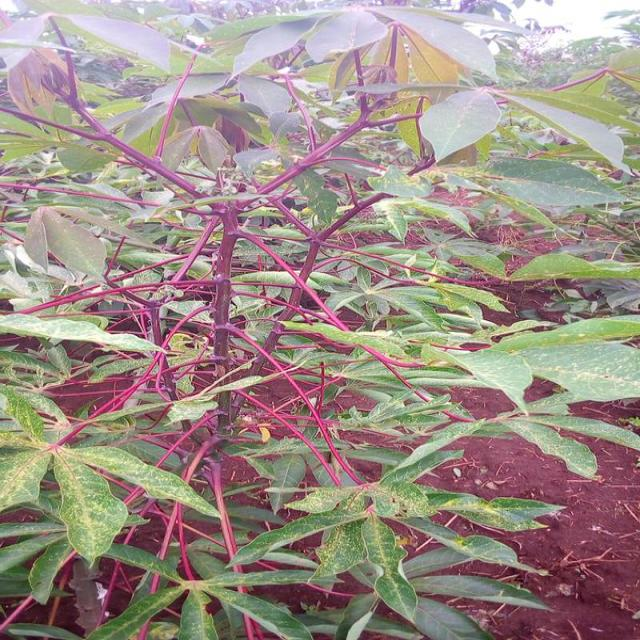cassava leaf: (0, 2, 638, 638), (418, 86, 500, 164)
